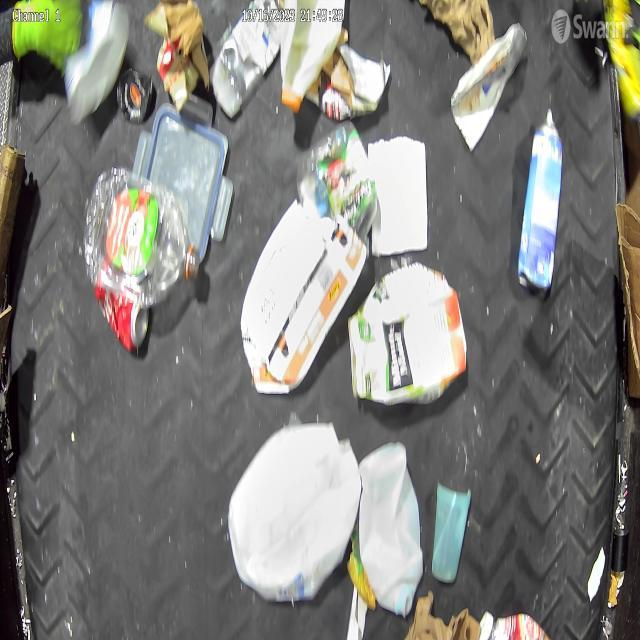can: (518, 106, 564, 290), (94, 279, 151, 352)
milk_jug: (225, 420, 362, 606), (359, 438, 426, 618), (279, 0, 346, 112)
non_white_jug: (346, 261, 470, 410)
plastic_bottle: (82, 162, 202, 306), (209, 0, 286, 121)
